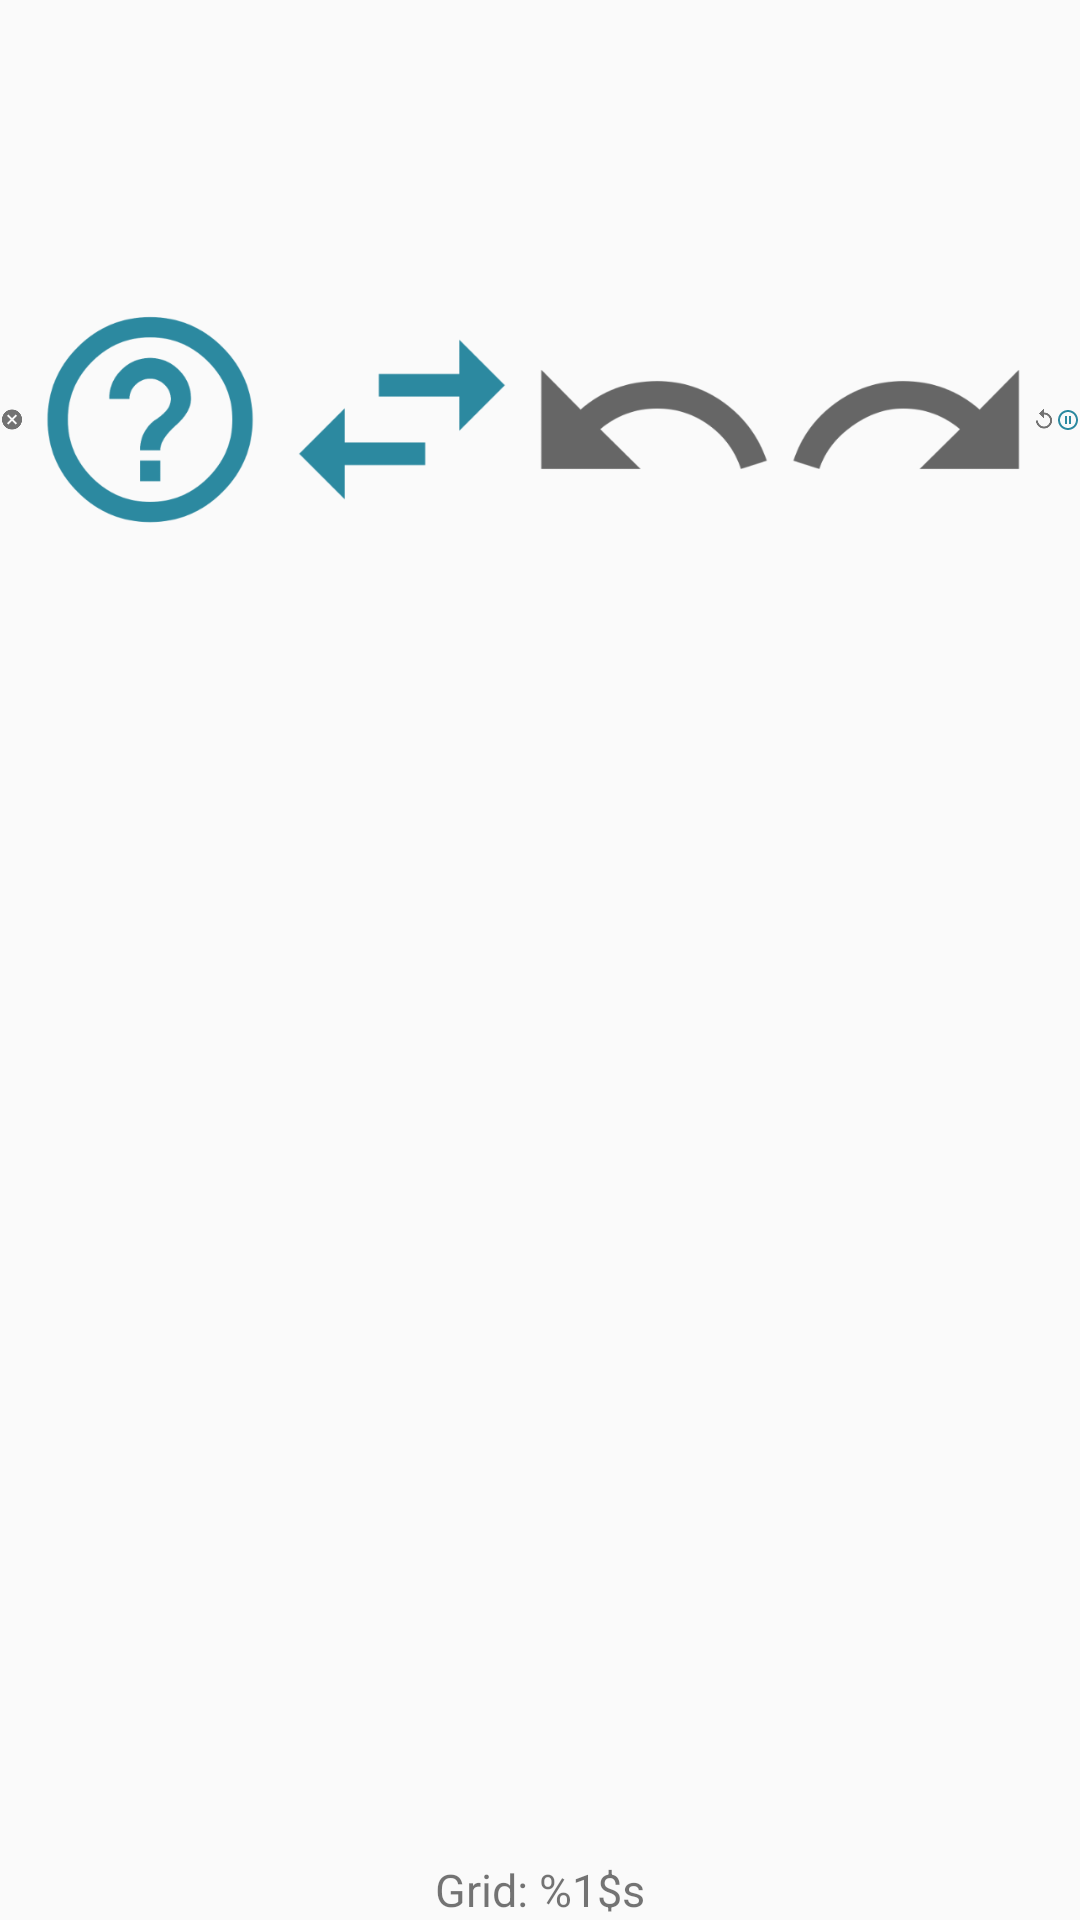

Named icons in this screenshot (1080w x 1920h) and their bounding boxes, {"left": x1, "top": y1, "right": x2, "bottom": y2}:
Hint: {"left": 47, "top": 317, "right": 253, "bottom": 523}
Redo: {"left": 793, "top": 370, "right": 1020, "bottom": 469}
Swap a color: {"left": 299, "top": 340, "right": 505, "bottom": 499}
Undo: {"left": 541, "top": 370, "right": 767, "bottom": 469}
